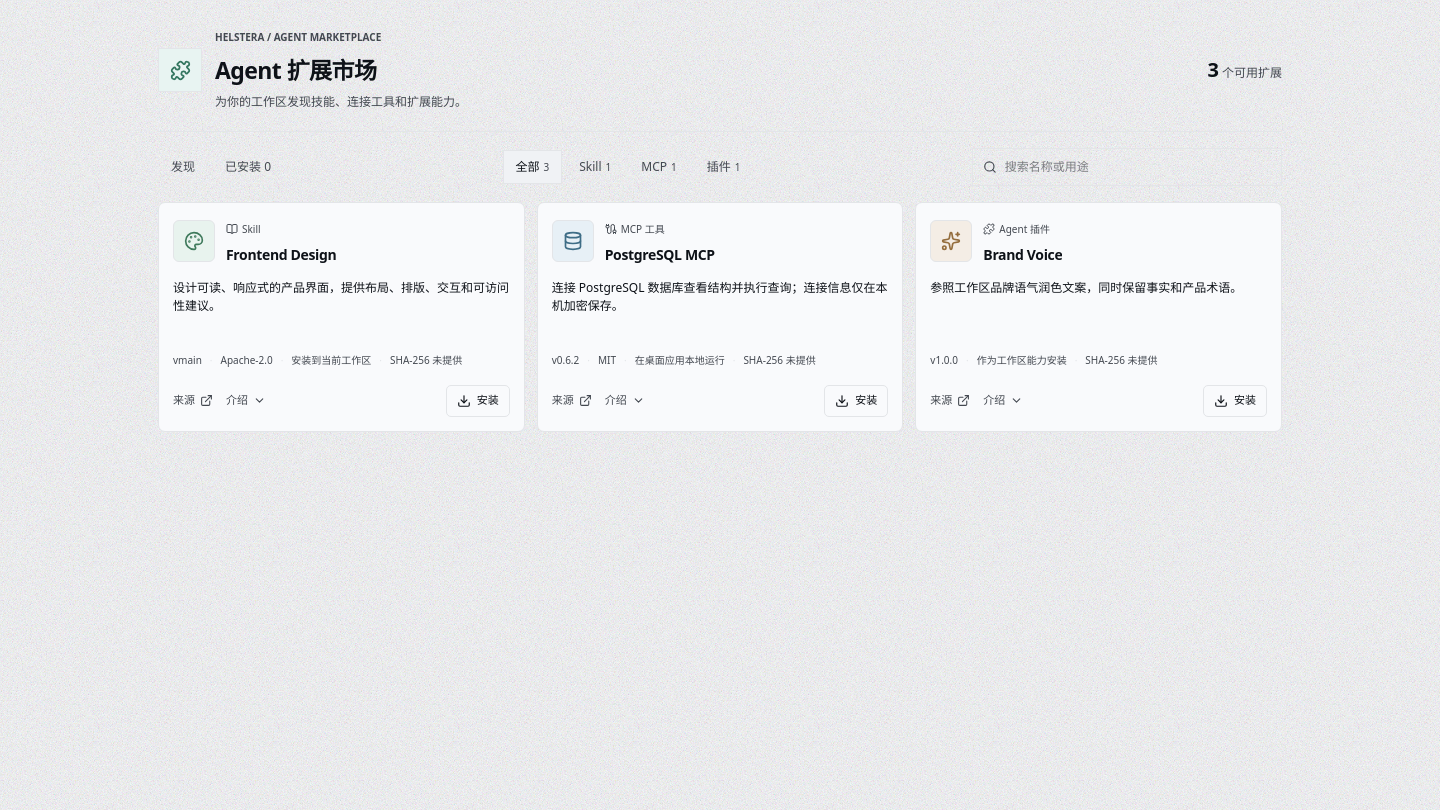
Test: Agent marketplace installs › filters listings by their Chinese introduction text
Expected: the heading "Frontend Design" is shown, [226,244,336,264]
Type "响应式的产品界面" into the field named "搜索市场" at [1138, 166], box [1005,148,1271,184]
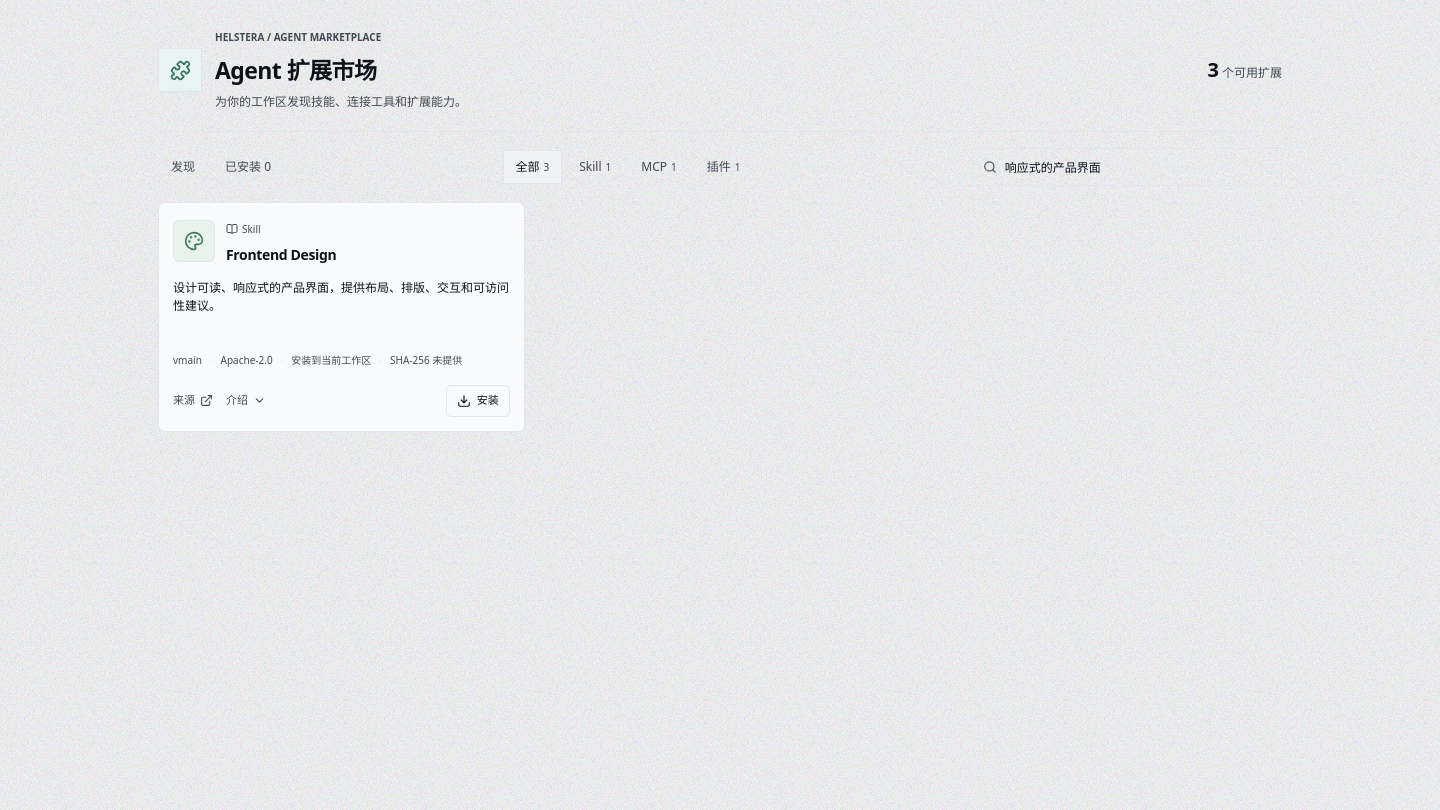
Expected: the heading "Frontend Design" is shown, [226,244,336,264]
Expected: the heading "PostgreSQL MCP" is gone
